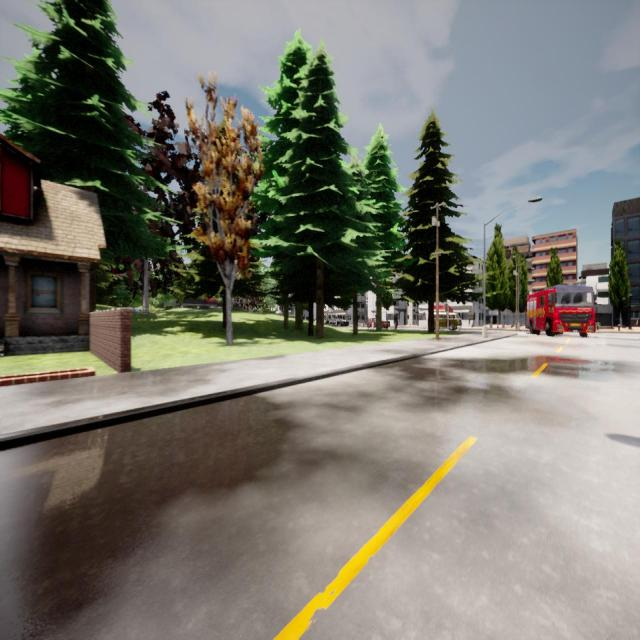Pedestrian: (394, 312, 399, 330)
Vehicle: (526, 285, 596, 336), (434, 312, 462, 331), (327, 312, 350, 326), (366, 317, 390, 329)
